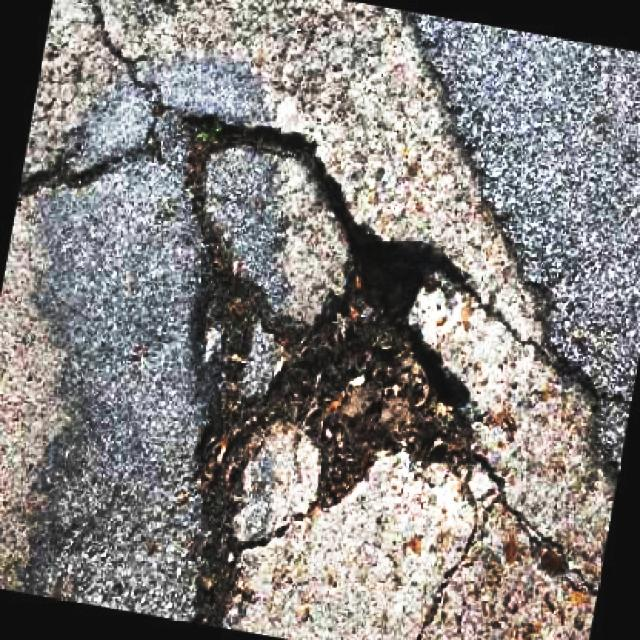pothole: (166, 112, 485, 556)
